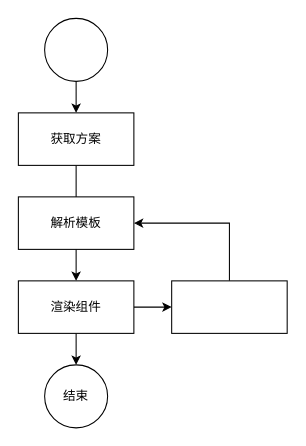
The diagram is 306 pixels wide and 446 high, and some of its shapes have lost their labels. The centre of each missing label's shape, as x and y in pixels:
"开始" belongs at pixel 76 49.
"接受输入参数" belongs at pixel 229 306.
